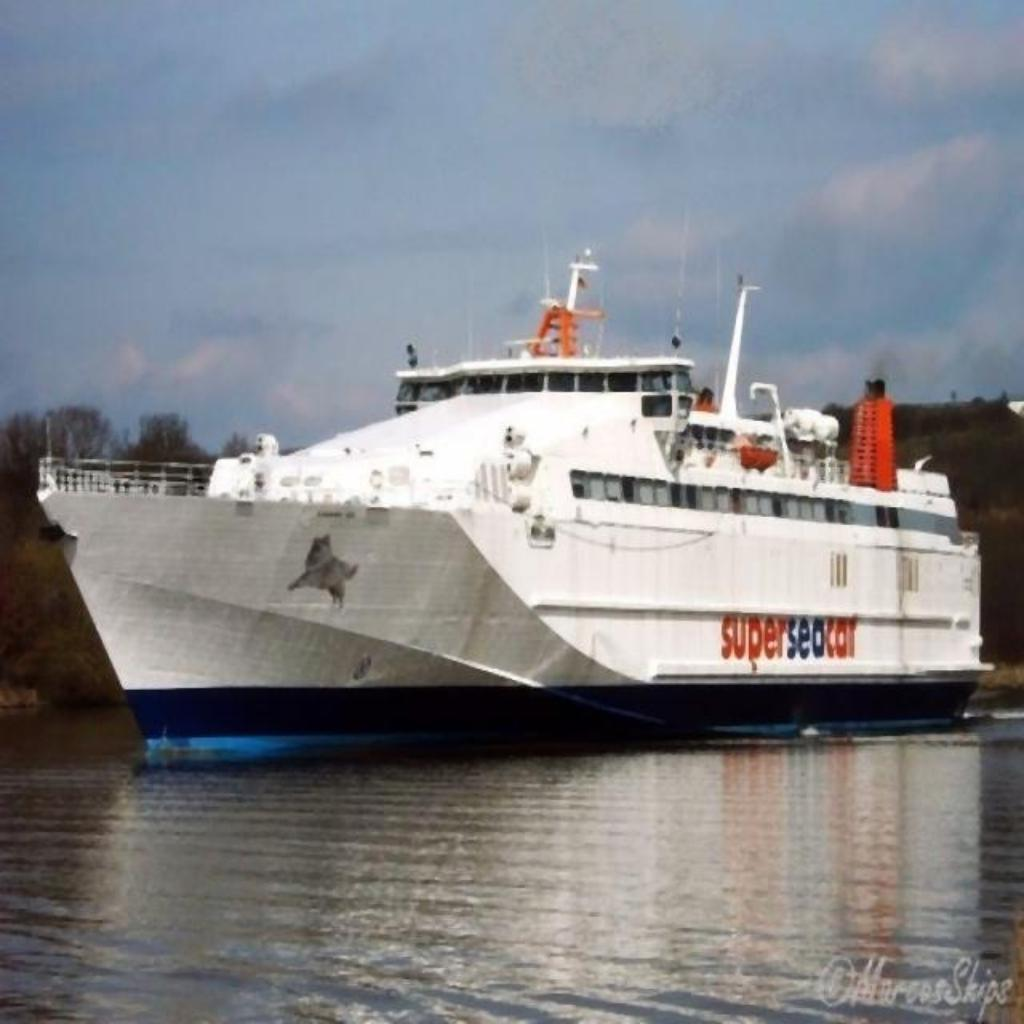PassengerShip: (30, 221, 1000, 777)
